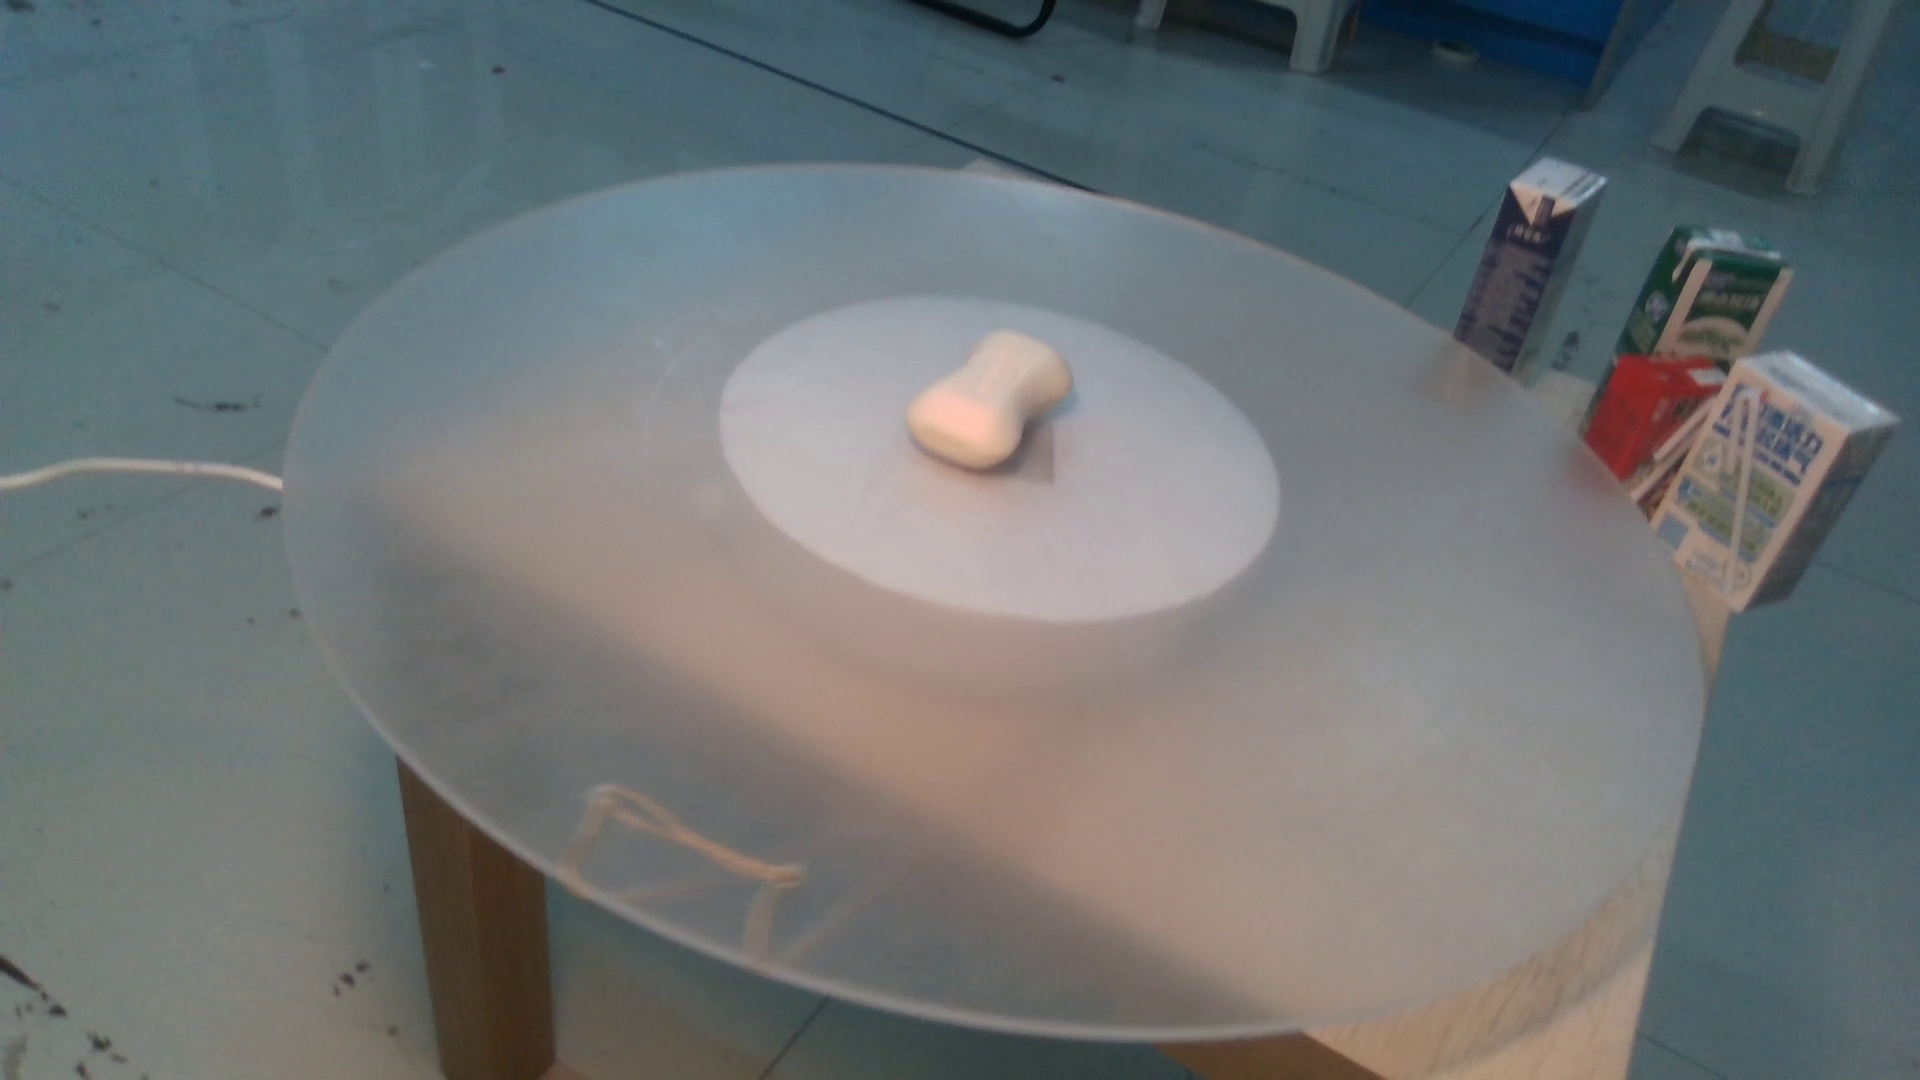CA003_1: (876, 314, 1106, 477)
